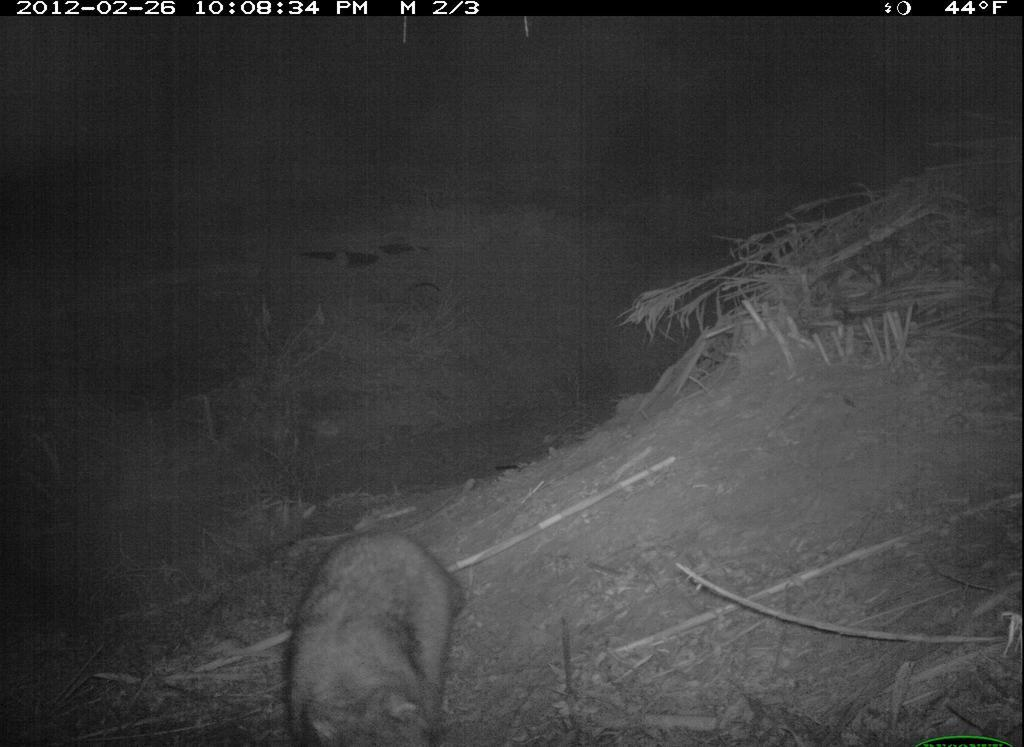raccoon: (279, 522, 471, 747)
